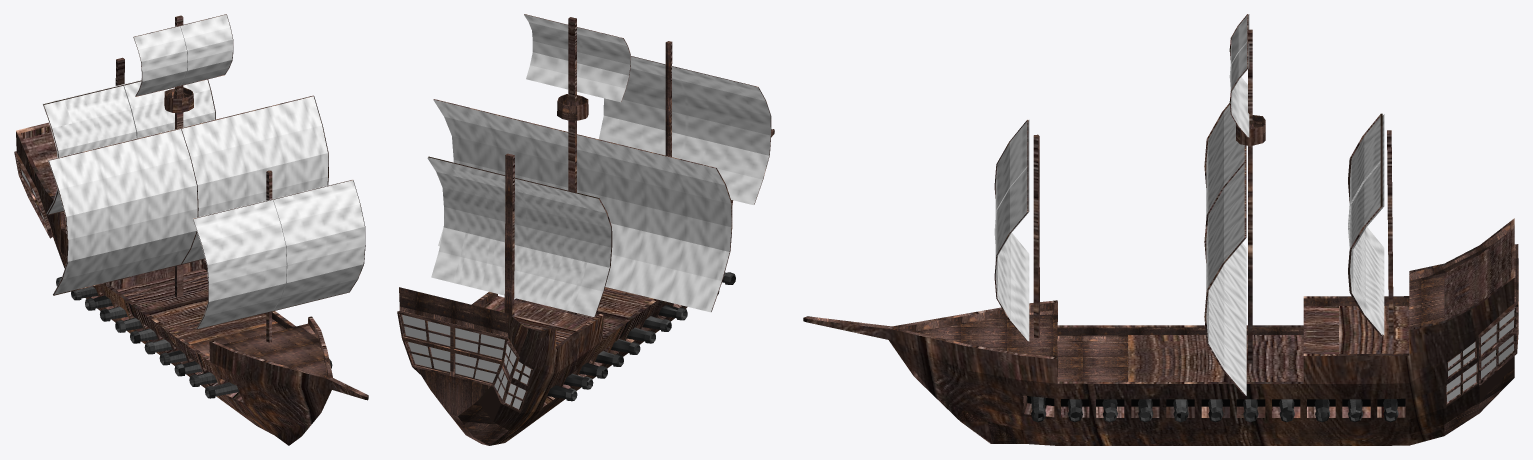
The model's file is pirate_ship6.fbx.
The picture shows the model from 3 angles, left to right: view 1: azimuth 30°, elevation 25°; view 2: azimuth 150°, elevation 25°; view 3: azimuth 270°, elevation 25°; orthographic projection. The views are drawn at different scales.
Visible parts, largest first — view 1: PirateShip; view 2: PirateShip; view 3: PirateShip.
Part boxes in pixels (bbox=[...]): PirateShip: bbox=[14, 14, 368, 445]; PirateShip: bbox=[397, 14, 774, 445]; PirateShip: bbox=[803, 14, 1518, 445].
Bounding box in the file's own units: 515 × 647 × 1017.
